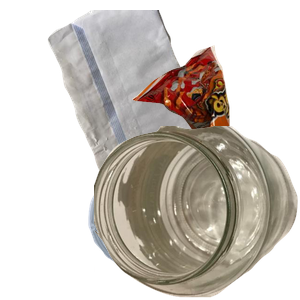glass: (94, 126, 300, 300)
paper: (45, 10, 251, 190)
plastic: (86, 163, 282, 300)
trash: (130, 43, 300, 190)
